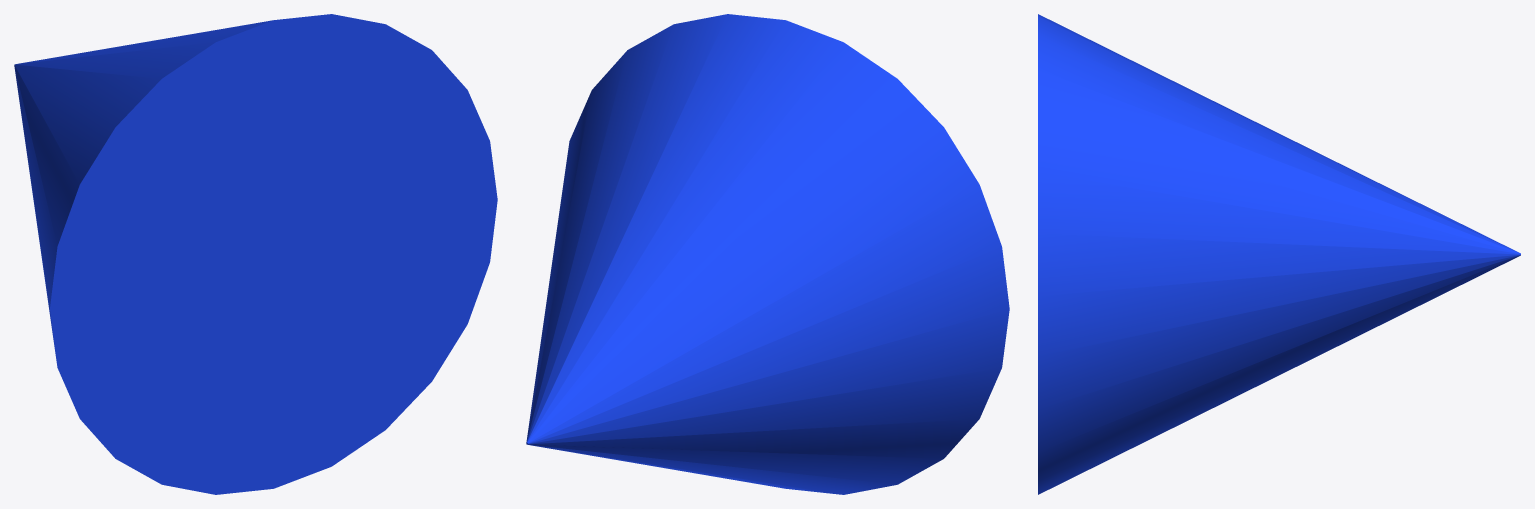
Rendered from vec_016.dae.
The picture shows the model from 3 angles, left to right: view 1: azimuth 30°, elevation 25°; view 2: azimuth 150°, elevation 25°; view 3: azimuth 270°, elevation 25°; orthographic projection. The views are drawn at different scales.
Visible parts, largest first — view 1: Model; view 2: Model; view 3: Model.
Boxes of the visible parts, x1,y1,x2,y2 form: Model: (14,14,497,494); Model: (526,14,1009,494); Model: (1038,14,1520,494).
Size of the model in its own units: 1 by 1 by 1.
